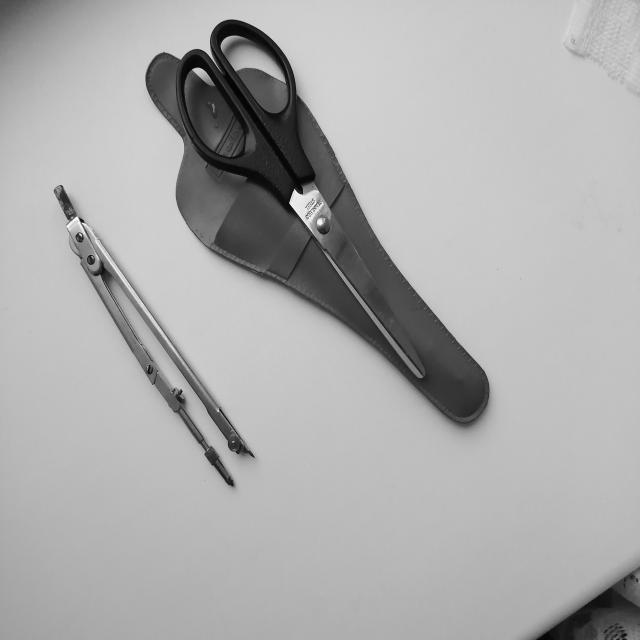scissors: (158, 5, 440, 410)
